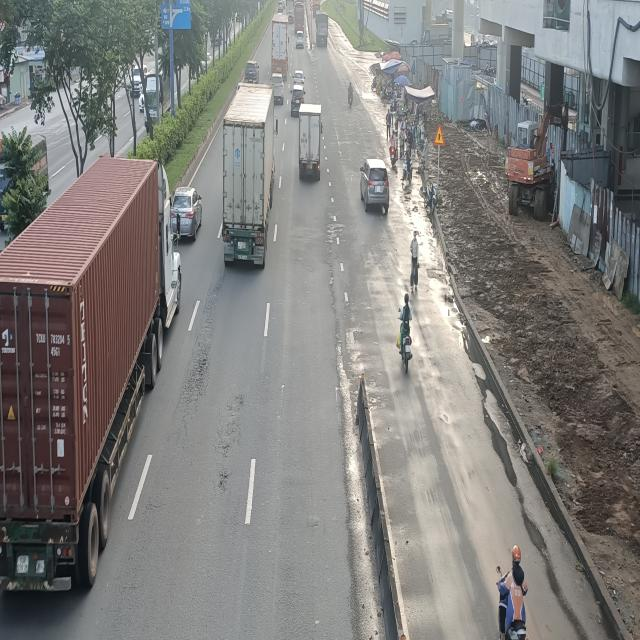car: (170, 187, 204, 244), (358, 160, 390, 217)
container: (0, 157, 178, 603), (221, 82, 274, 269), (270, 14, 288, 72)
truck: (296, 103, 322, 180)
